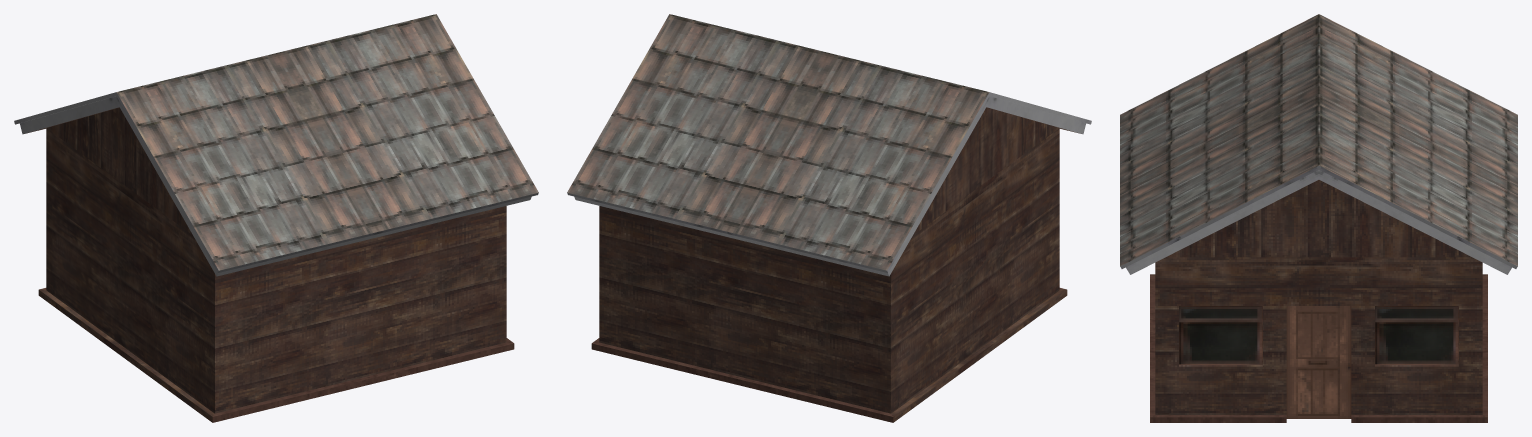
File: house.fbx
The picture shows the model from 3 angles, left to right: view 1: azimuth 30°, elevation 25°; view 2: azimuth 150°, elevation 25°; view 3: azimuth 270°, elevation 25°; orthographic projection. The views are drawn at different scales.
Parts seen in each view (by area): view 1: house; view 2: house; view 3: house, house_door.
Boxes of the visible parts, box(x1,y1,x2,y2) form: house: box(14, 14, 538, 422); house: box(567, 14, 1091, 422); house: box(1120, 14, 1517, 422); house_door: box(1286, 306, 1351, 418).
Size of the model in its own units: 1158 by 932 by 1284.
